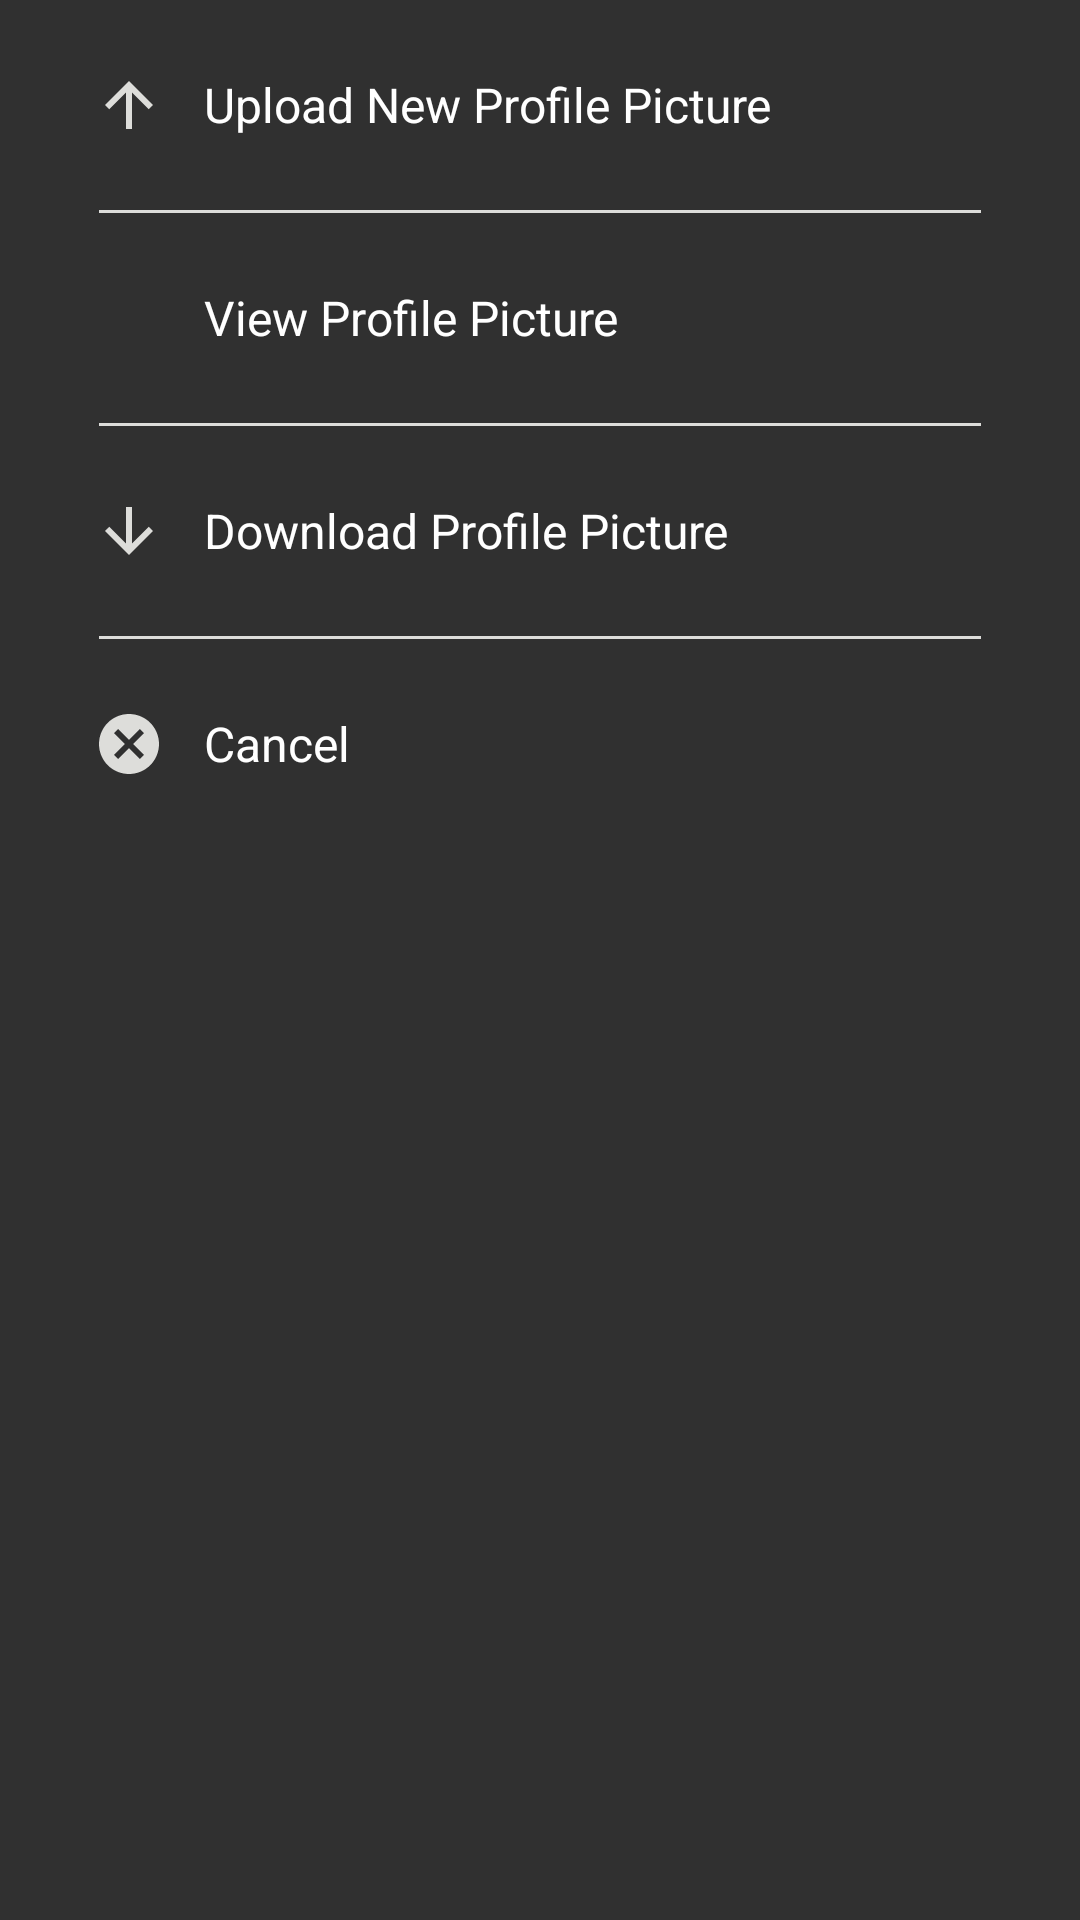

Icon bounding boxes for this 1080px x 1920px phone screenshot, format (x1=x1, y1=y1, x2=x2, y2=y2):
arrow downward: (x1=105, y1=507, x2=153, y2=555)
arrow upward: (x1=105, y1=81, x2=153, y2=129)
